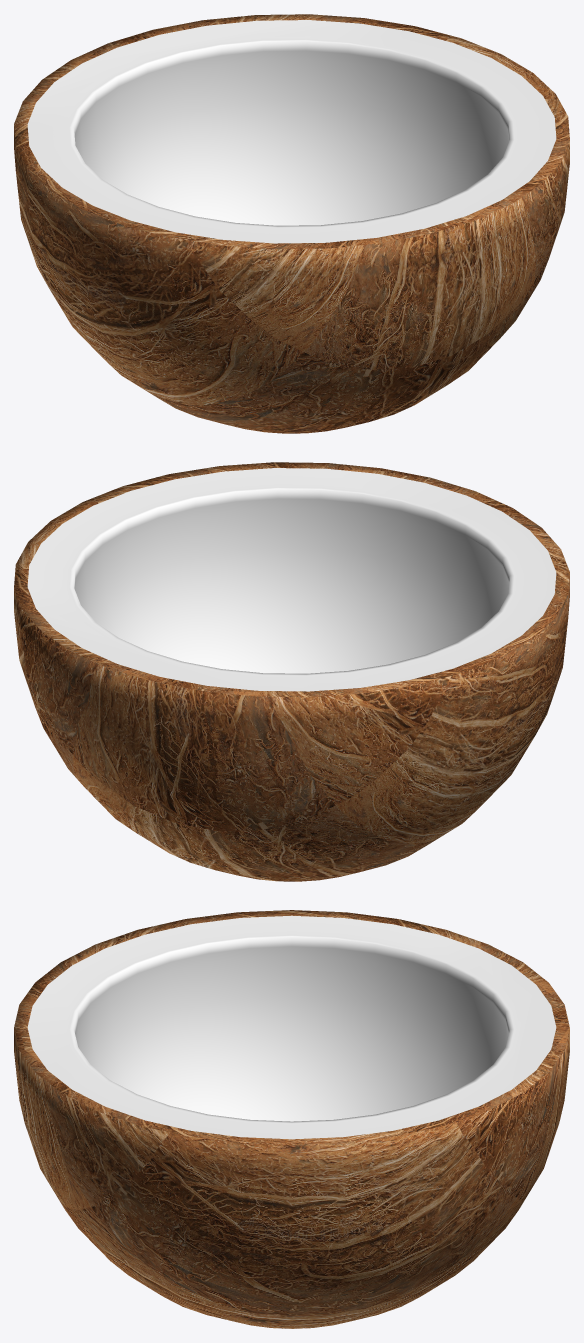
The model's file is coconut.glb.
3 views of the same model, one above another, from view 1: azimuth 30°, elevation 25°; view 2: azimuth 150°, elevation 25°; view 3: azimuth 270°, elevation 25° (orthographic).
Visible parts, largest first — view 1: Brown_0, coconut white_1; view 2: Brown_0, coconut white_1; view 3: Brown_0, coconut white_1.
Part boxes in pixels (bbox=[...]): Brown_0: bbox=[14, 14, 569, 433]; coconut white_1: bbox=[27, 20, 556, 243]; Brown_0: bbox=[14, 462, 569, 881]; coconut white_1: bbox=[27, 468, 556, 691]; Brown_0: bbox=[14, 910, 569, 1328]; coconut white_1: bbox=[27, 915, 556, 1139].
Size of the model in its own units: 2 by 1.09 by 2.
2 materials, 1 textured.
